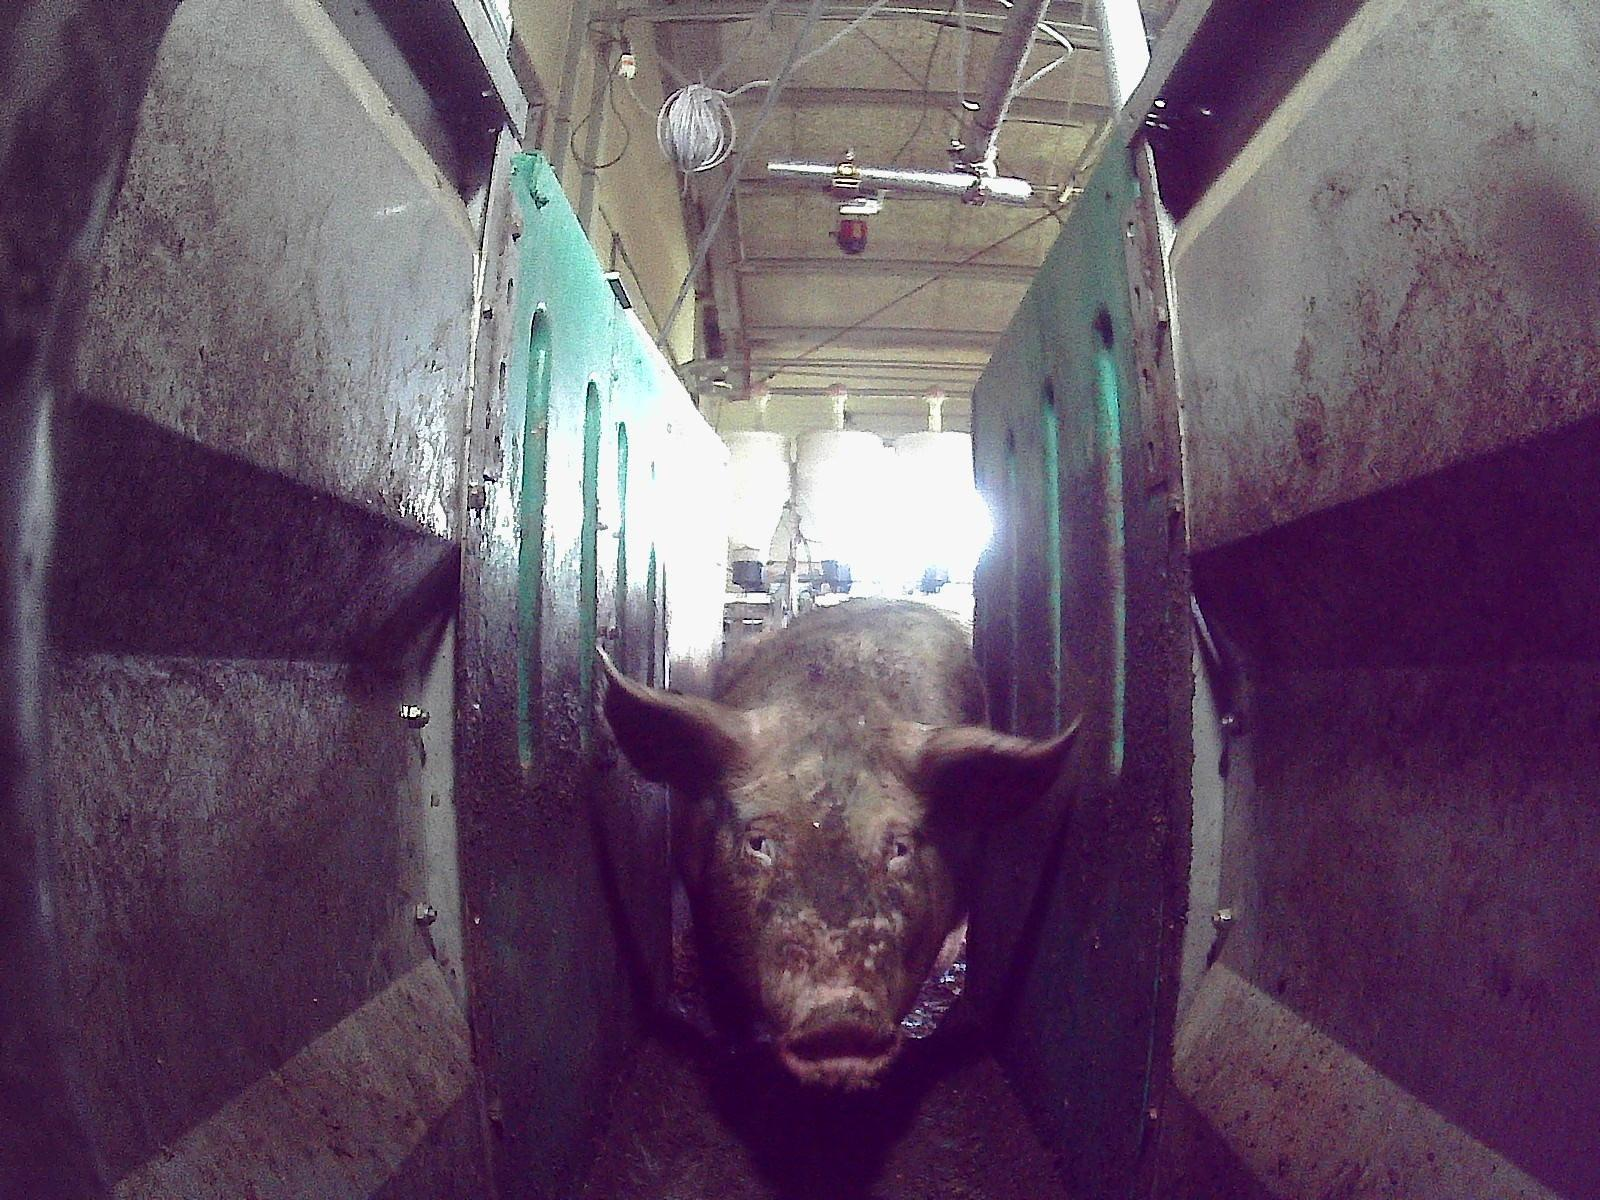Face: (705, 698, 959, 1095)
